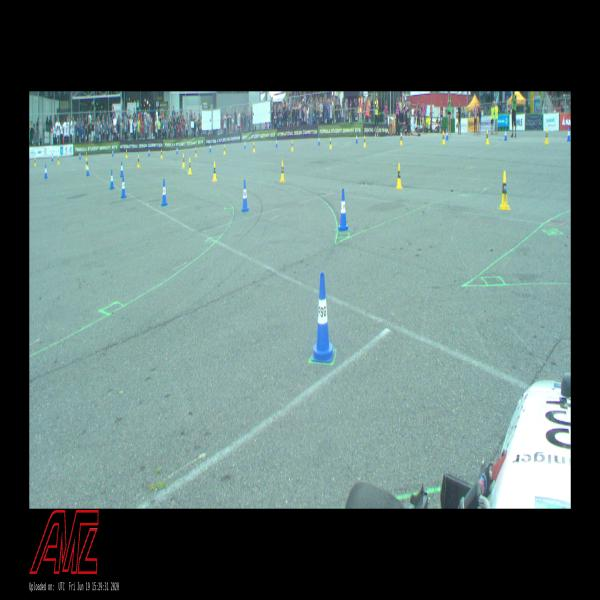blue_cone: (312, 271, 334, 362), (337, 188, 349, 231), (241, 179, 249, 212), (161, 179, 168, 206), (121, 176, 126, 198), (110, 170, 115, 189), (44, 164, 48, 179), (567, 128, 571, 141), (120, 161, 123, 177), (86, 162, 89, 176), (504, 128, 507, 141), (176, 146, 179, 155), (51, 153, 54, 162), (446, 129, 448, 140), (318, 135, 320, 145), (356, 133, 358, 143), (276, 138, 278, 148), (148, 147, 150, 156), (209, 143, 211, 152), (112, 148, 114, 157), (244, 140, 246, 148), (79, 152, 81, 160)
yellow_cone: (498, 171, 511, 210), (396, 163, 402, 189), (280, 160, 285, 182), (213, 161, 217, 181), (188, 158, 192, 175), (544, 128, 548, 144), (486, 130, 489, 145), (290, 140, 294, 151), (442, 131, 445, 145), (182, 154, 185, 168), (363, 136, 366, 147), (329, 138, 332, 149), (138, 154, 140, 168), (85, 156, 87, 169), (400, 133, 402, 145), (57, 156, 60, 164), (253, 142, 255, 153), (195, 148, 197, 158), (126, 149, 128, 159), (161, 149, 163, 159), (34, 157, 36, 166), (224, 144, 225, 154)
